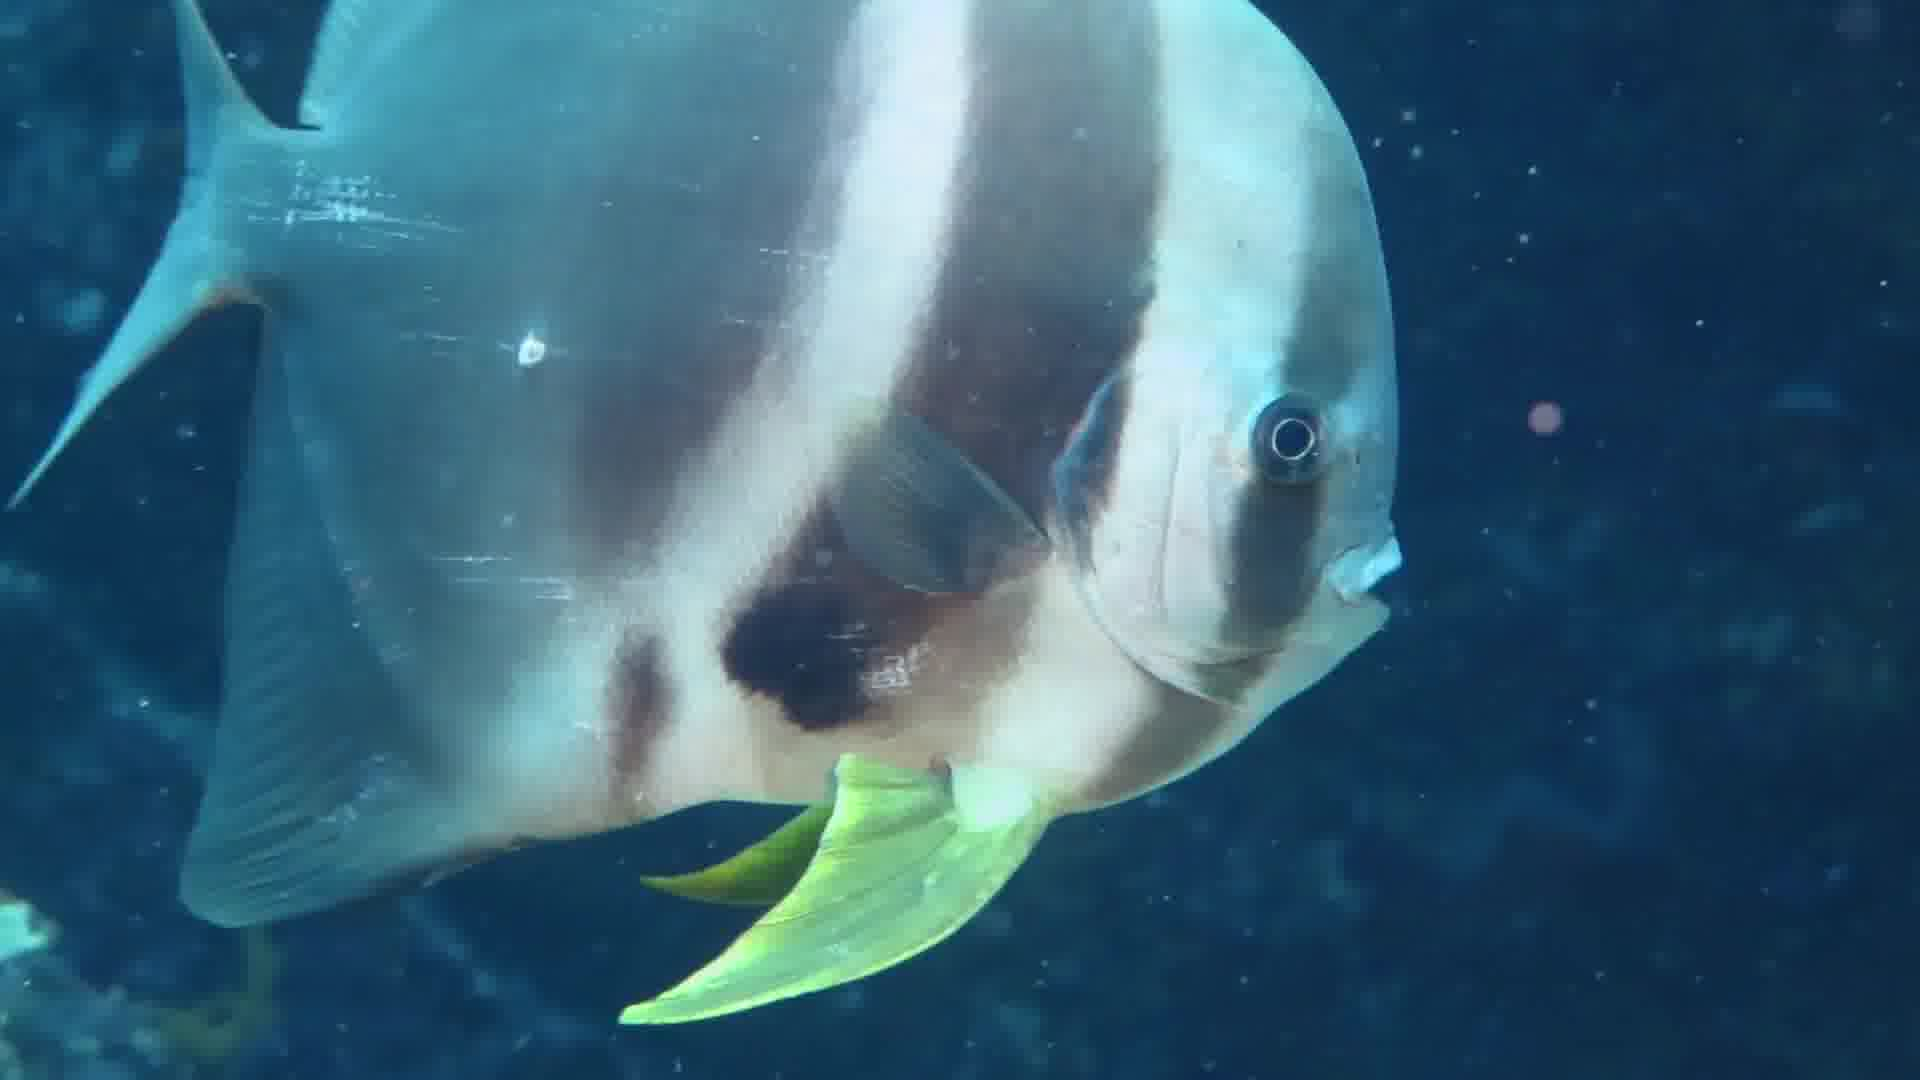Platax teira: (1, 1, 1447, 1014)
